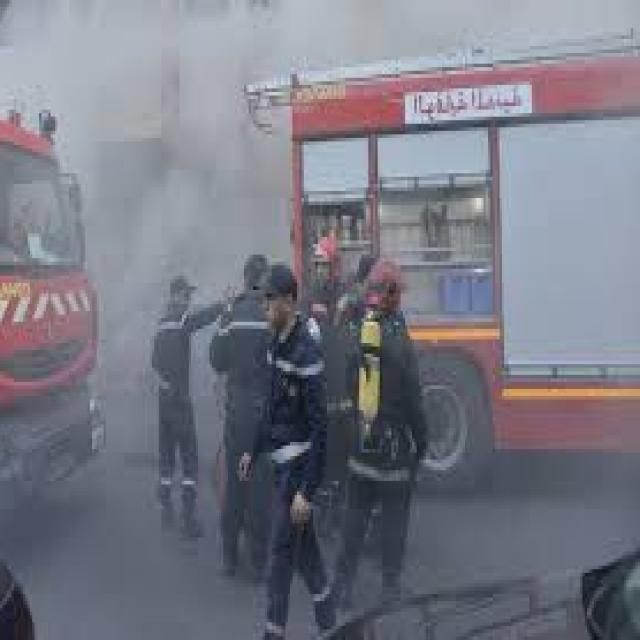emergency: (284, 42, 640, 520)
